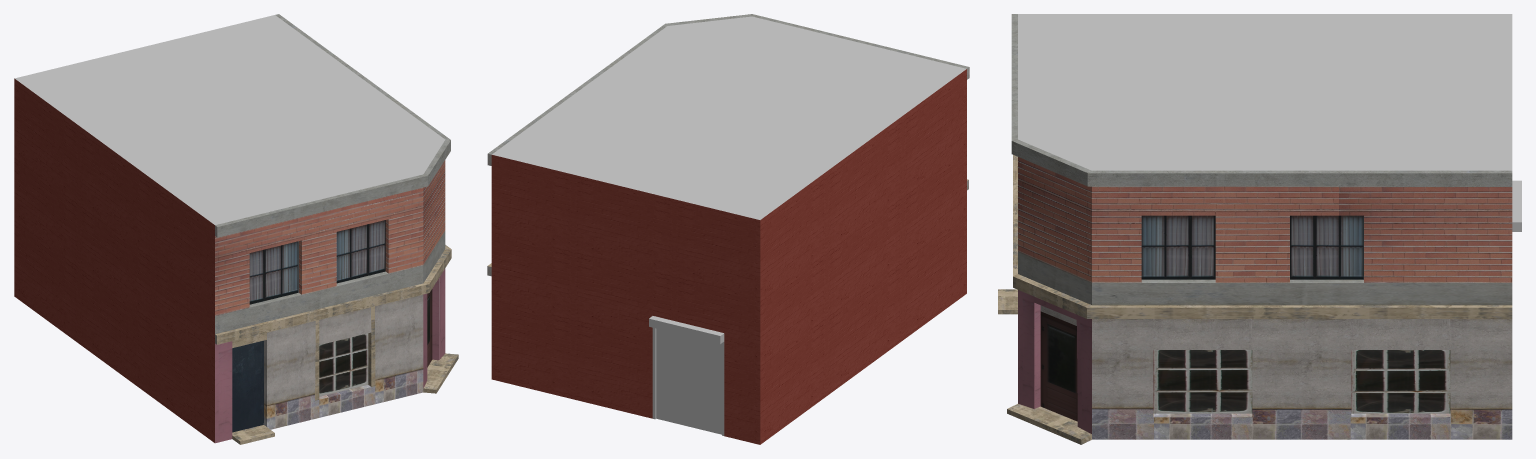
3 views of the same model, side by side, from view 1: azimuth 30°, elevation 25°; view 2: azimuth 150°, elevation 25°; view 3: azimuth 270°, elevation 25° (orthographic). The views are drawn at different scales.
Visible parts, largest first — view 1: B36; view 2: B36; view 3: B36.
Boxes of the visible parts, left/top/right/bottom form: B36: left=14, top=14, right=458, bottom=444; B36: left=487, top=14, right=969, bottom=444; B36: left=998, top=14, right=1521, bottom=444.
Size of the model in its own units: 1040 by 805 by 1421.
